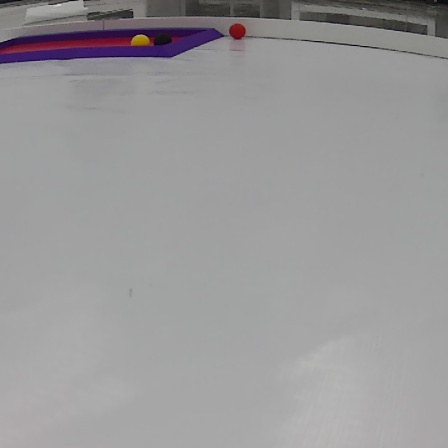black: (152, 32, 172, 48)
red: (226, 22, 246, 41)
red_aim: (2, 28, 218, 59)
yellow: (128, 33, 149, 48)
